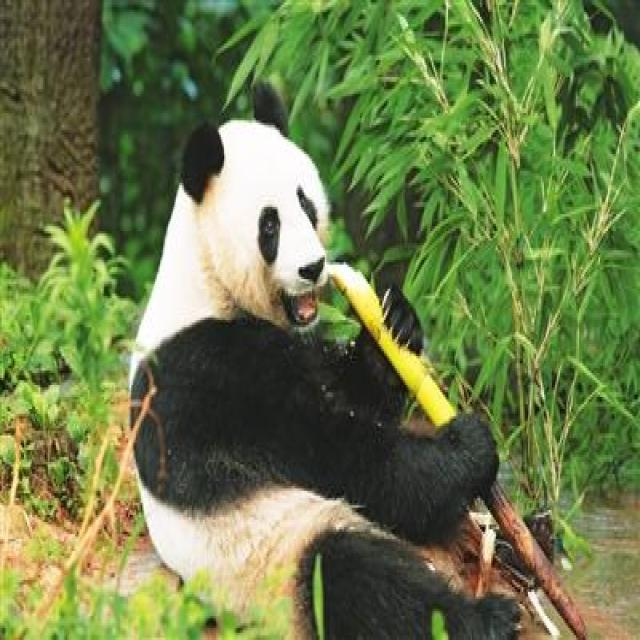panda: (126, 72, 556, 640)
